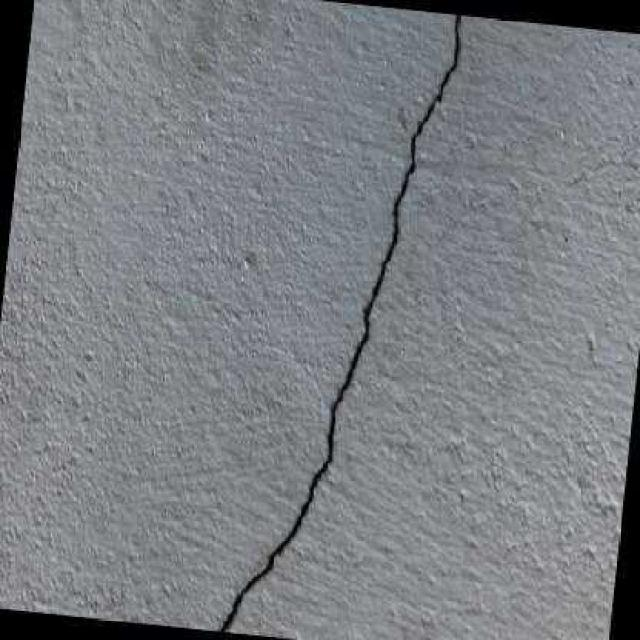D00: (217, 12, 460, 632)
